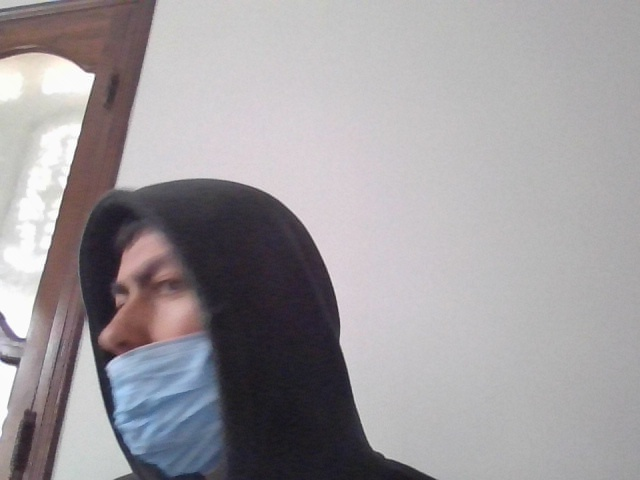mask_weared_incorrect: (78, 202, 257, 476)
